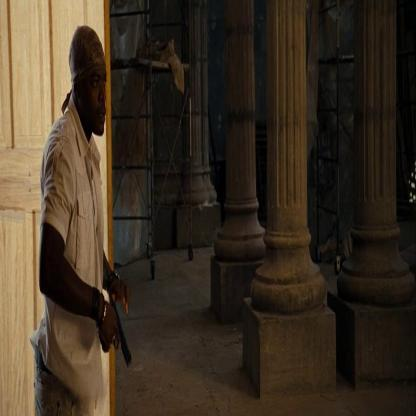gun: (105, 280, 137, 376)
